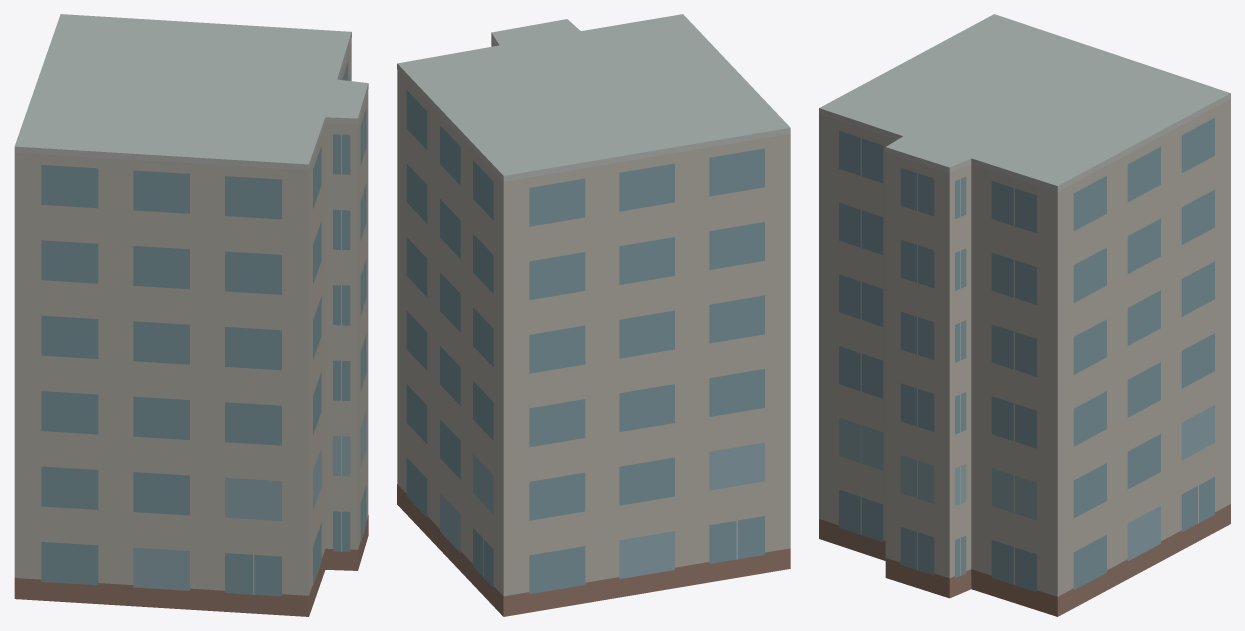
File: survey-upis-33007866.glb
The picture shows the model from 3 angles, left to right: view 1: azimuth 30°, elevation 25°; view 2: azimuth 150°, elevation 25°; view 3: azimuth 270°, elevation 25°; orthographic projection. The views are drawn at different scales.
Visible parts, largest first — view 1: survey-upis-33007866.tmp; view 2: survey-upis-33007866.tmp; view 3: survey-upis-33007866.tmp.
Boxes of the visible parts, bbox=[...] form: survey-upis-33007866.tmp: bbox=[14, 14, 368, 616]; survey-upis-33007866.tmp: bbox=[397, 14, 790, 616]; survey-upis-33007866.tmp: bbox=[819, 14, 1230, 616].
Bounding box in the file's own units: 15.77 × 18.4 × 15.95.
